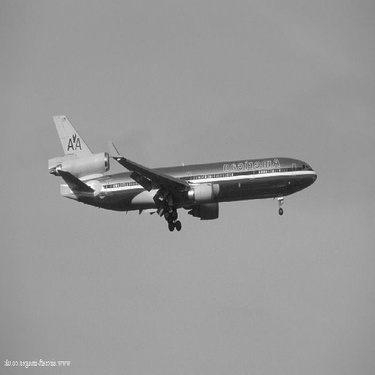airplane: (27, 112, 323, 238)
